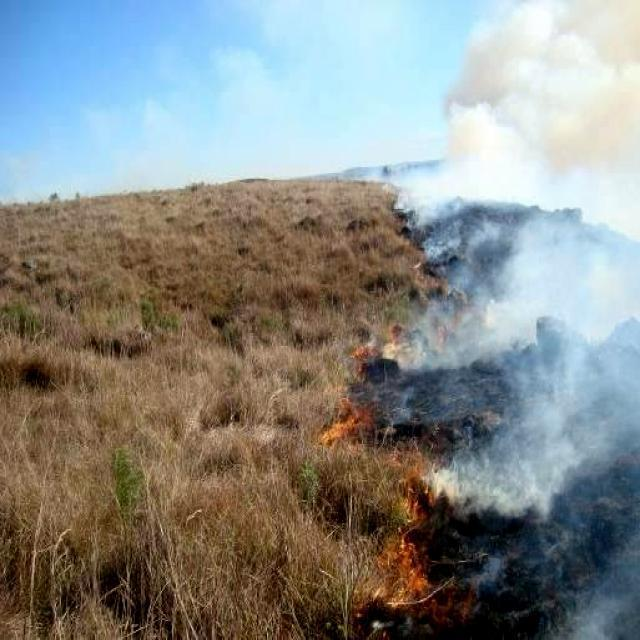Fire: (373, 533, 426, 607), (319, 402, 369, 442)
Smoke: (410, 47, 640, 545)
